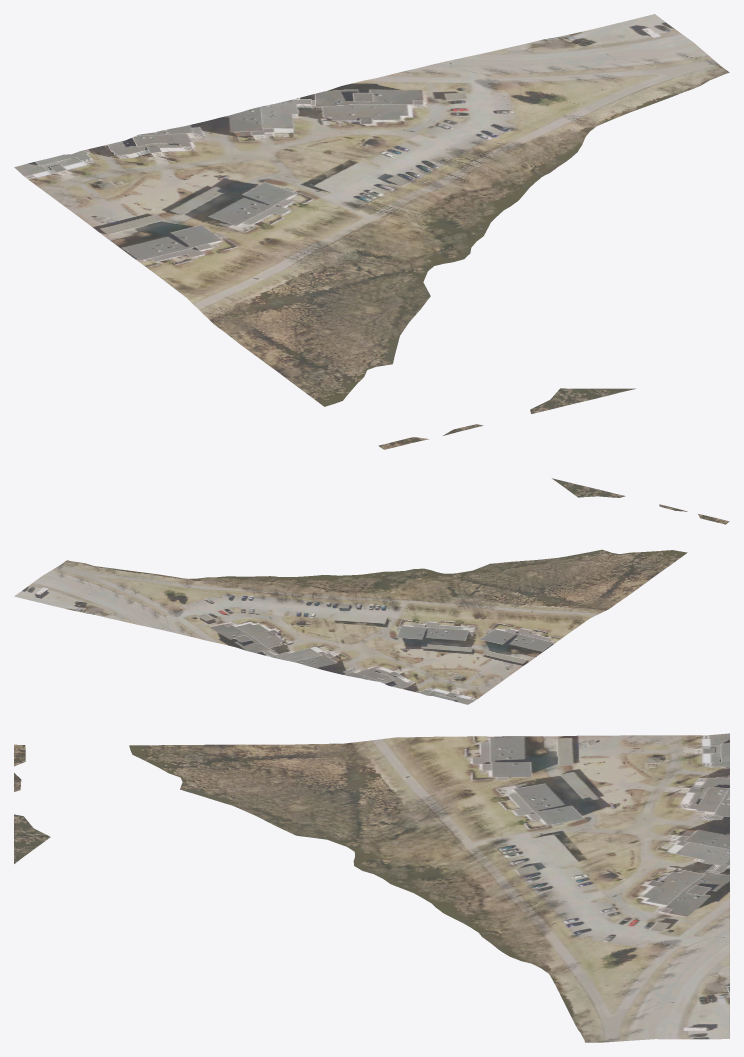
File: CM_Terrain_24488820_6819999.fbx
The picture shows the model from 3 angles, top to bottom: view 1: azimuth 30°, elevation 25°; view 2: azimuth 150°, elevation 25°; view 3: azimuth 270°, elevation 25°; orthographic projection. The views are drawn at different scales.
Parts seen in each view (by area): view 1: CM_Terrain_24488820_6819999_LOD0; view 2: CM_Terrain_24488820_6819999_LOD0; view 3: CM_Terrain_24488820_6819999_LOD0.
Boxes of the visible parts, box(x1,y1,x2,y2) form: CM_Terrain_24488820_6819999_LOD0: box(14, 14, 729, 449); CM_Terrain_24488820_6819999_LOD0: box(14, 478, 729, 704); CM_Terrain_24488820_6819999_LOD0: box(14, 733, 729, 1042).
Size of what is drawn, in the model's own units: 205 by 4.45 by 205.
